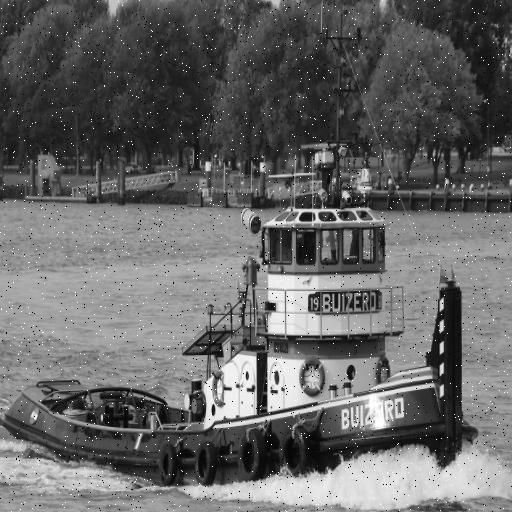tugboat: (1, 137, 483, 504)
